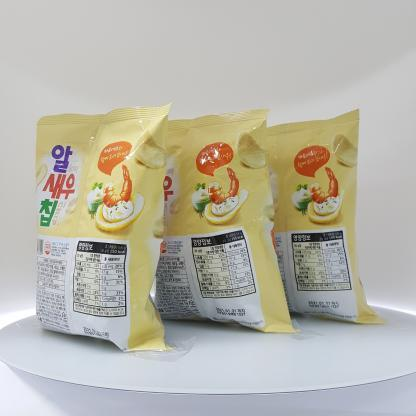Plastic Packaging: (22, 90, 170, 356), (152, 109, 294, 335), (258, 107, 385, 325)
